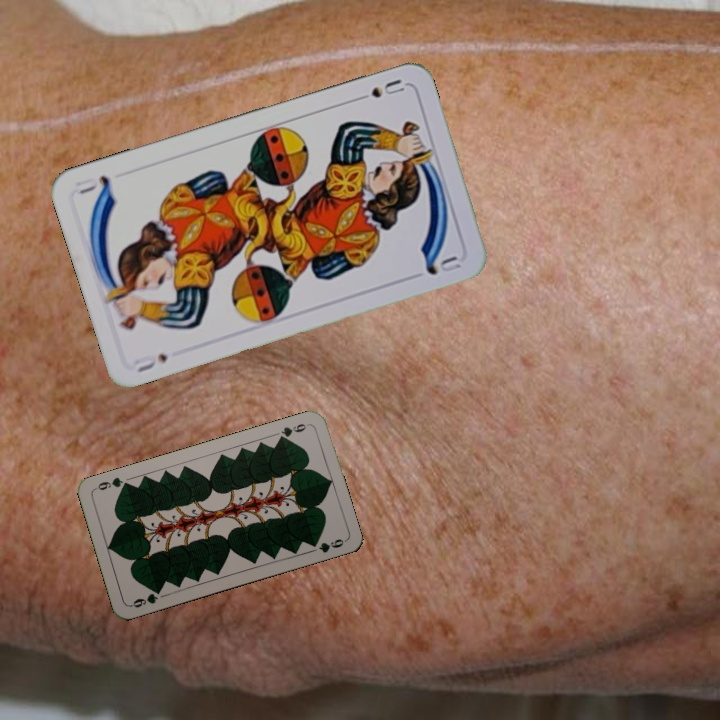G9: (127, 585, 164, 610), (274, 419, 311, 443)
SU: (350, 75, 407, 105), (130, 349, 171, 375)
